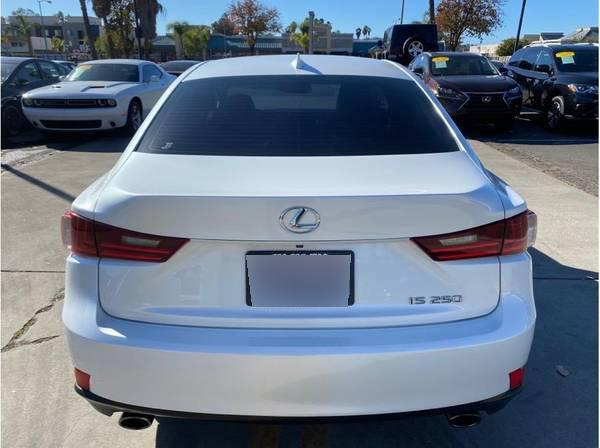Left_Taillight: (60, 211, 188, 263)
Rear_Bumper: (65, 253, 537, 418)
Rear_Windshield: (129, 74, 470, 157)
Right_Taillight: (409, 210, 538, 259)
Roof: (175, 49, 417, 80)
Tailgate: (73, 150, 526, 334)
